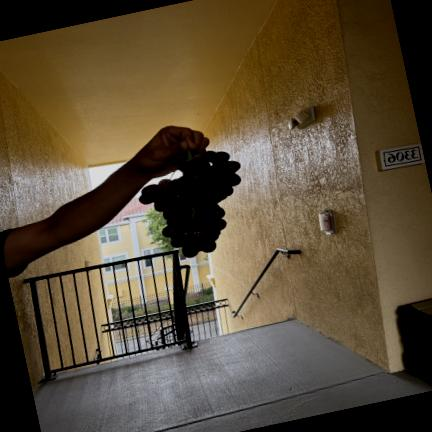grape_cluster: (139, 149, 241, 258)
